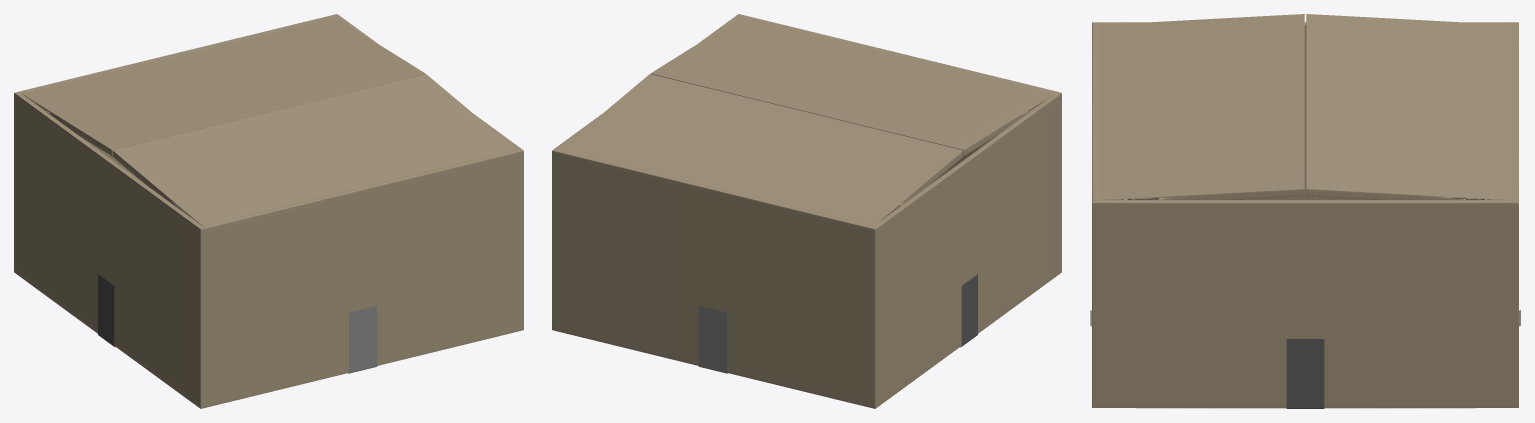
File: Prop_Box_02.fbx
The picture shows the model from 3 angles, left to right: view 1: azimuth 30°, elevation 25°; view 2: azimuth 150°, elevation 25°; view 3: azimuth 270°, elevation 25°; orthographic projection. The views are drawn at different scales.
Visible parts, largest first — view 1: Caixa_MESH; view 2: Caixa_MESH; view 3: Caixa_MESH.
Part boxes in pixels (left/top/right/bottom): Caixa_MESH: left=14, top=14, right=523, bottom=408; Caixa_MESH: left=552, top=14, right=1061, bottom=408; Caixa_MESH: left=1090, top=14, right=1520, bottom=408.
Bounding box in the file's own units: 1.01 × 0.5614 × 1.01.
